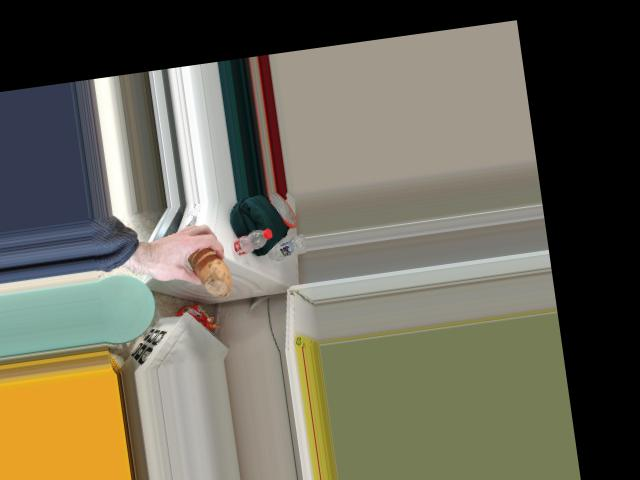sweet_potato: (187, 246, 232, 290)
